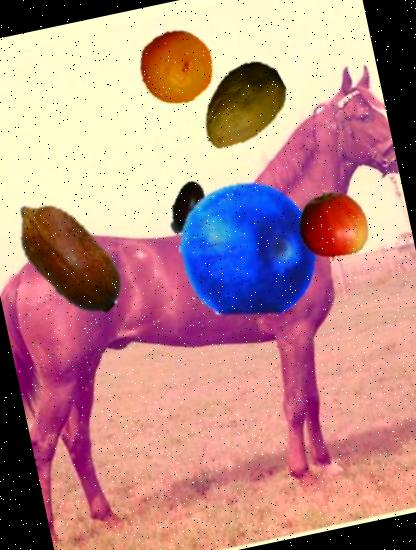Apple: (291, 184, 375, 268)
Eggplant: (152, 174, 222, 244)
Huckleberry: (166, 167, 330, 332)
Lemon: (132, 22, 221, 111)
Nut: (0, 176, 147, 336)
Papaya: (186, 49, 297, 160)
